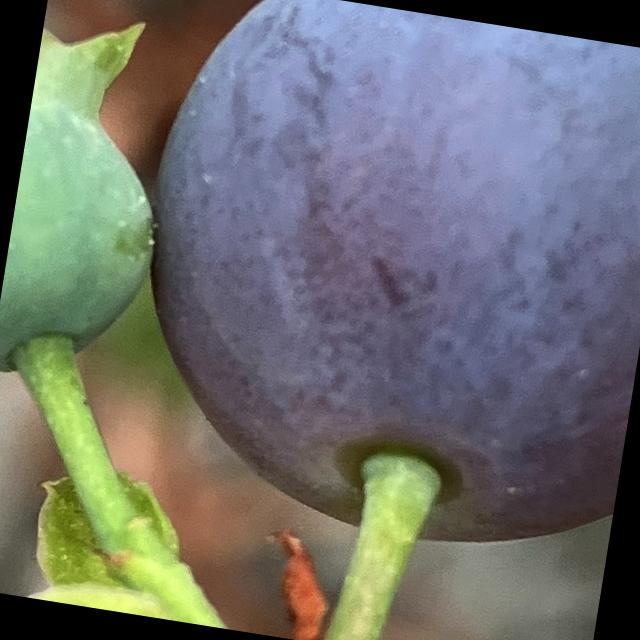Blueberries: (101, 0, 640, 571), (0, 0, 190, 391)
